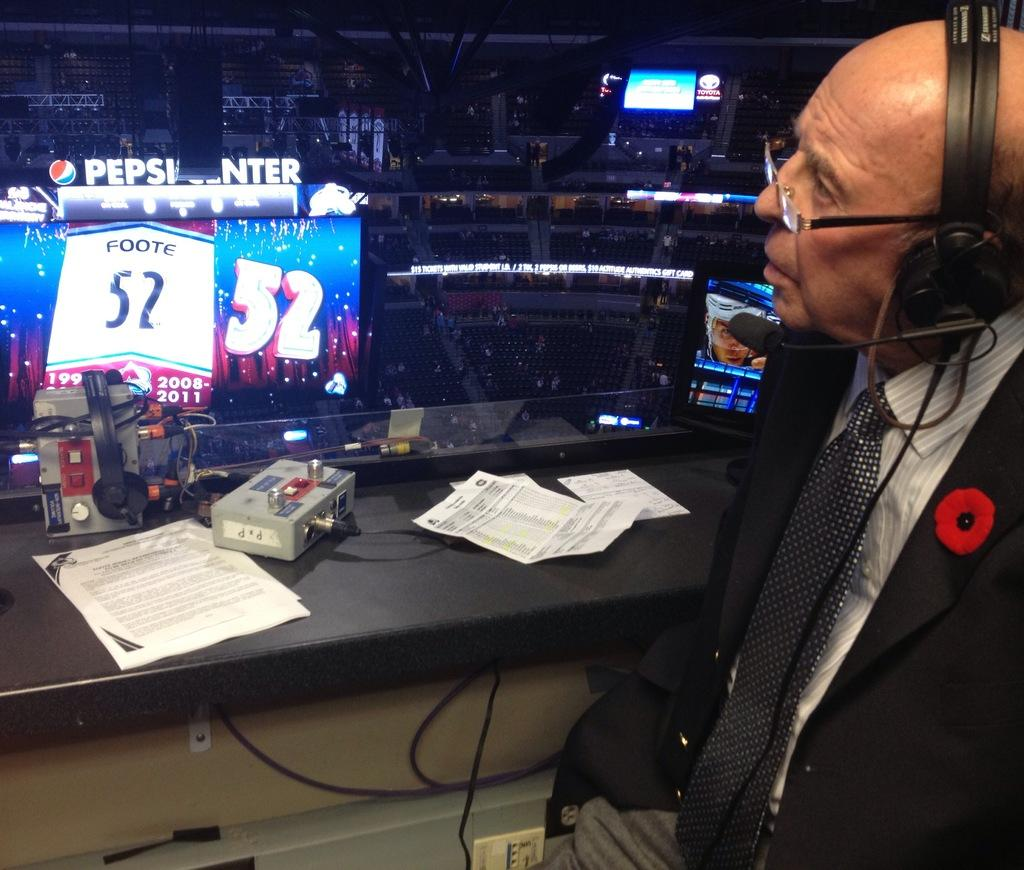Book: (30, 516, 310, 672)
